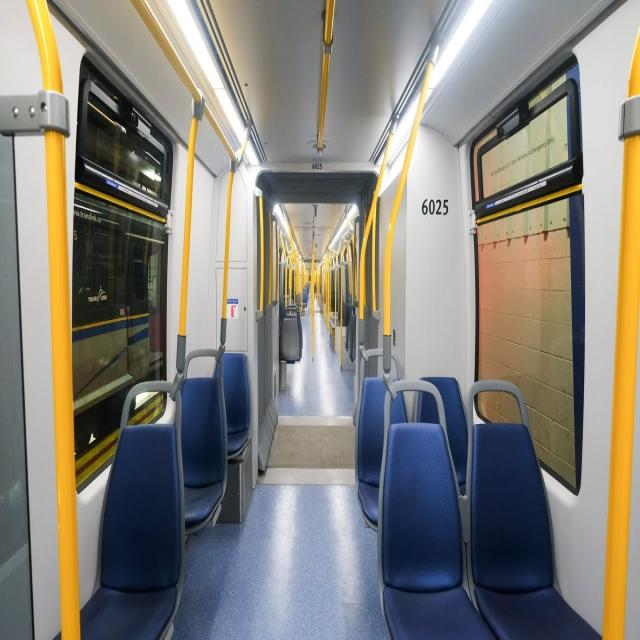empty-seat-frontal: (460, 380, 602, 638), (50, 380, 186, 640), (375, 380, 494, 639)
